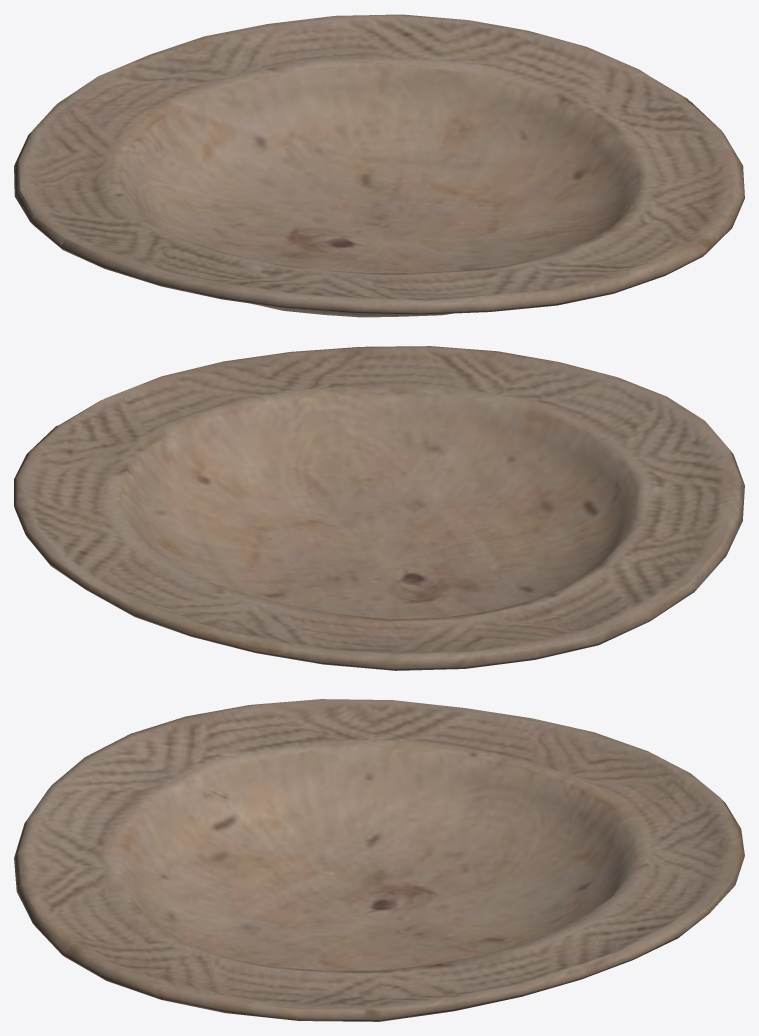
The model's file is prop_plate.glb.
3 renders of one model, top to bottom at view 1: azimuth 30°, elevation 25°; view 2: azimuth 150°, elevation 25°; view 3: azimuth 270°, elevation 25°, orthographic. The views are drawn at different scales.
Visible parts, largest first — view 1: carved_wooden_plate; view 2: carved_wooden_plate; view 3: carved_wooden_plate.
Boxes of the visible parts, x1,y1,x2,y2 form: carved_wooden_plate: (14,14,744,317); carved_wooden_plate: (14,346,744,670); carved_wooden_plate: (14,699,744,1021).
Size of the model in its own units: 0.2131 by 0.03 by 0.2106.
1 material, 1 textured.
